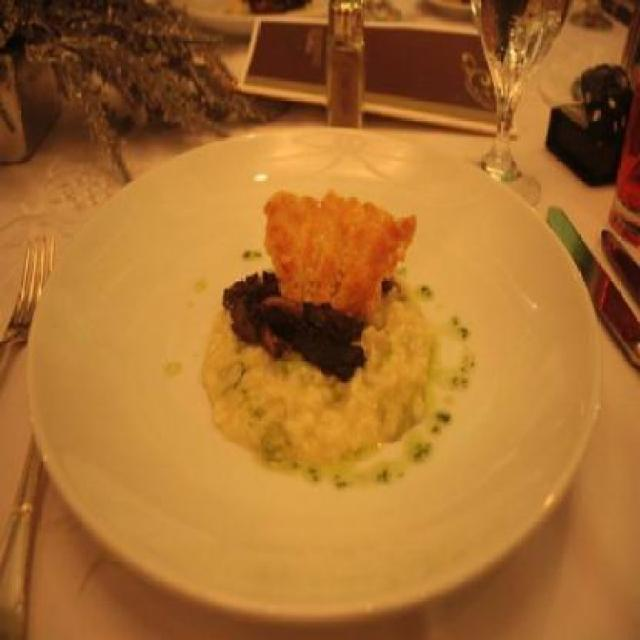Risotto: (203, 296, 455, 473)
